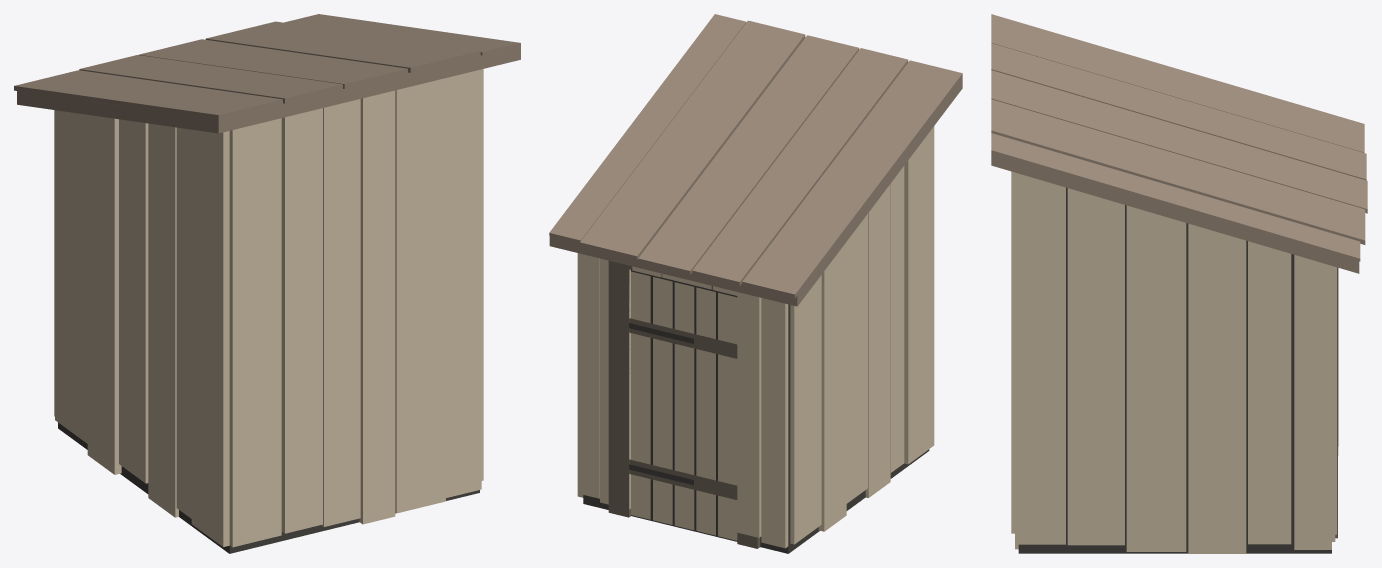
The model's file is recon_1835_blk_indiana_north_wolcott_a3_04__inferred_1835.glb.
3 renders of one model, left to right at view 1: azimuth 30°, elevation 25°; view 2: azimuth 150°, elevation 25°; view 3: azimuth 270°, elevation 25°, orthographic. The views are drawn at different scales.
Parts seen in each view (by area): view 1: recon_1835_blk_indiana_north_wolcott_a3_04__inferred_1835; view 2: recon_1835_blk_indiana_north_wolcott_a3_04__inferred_1835; view 3: recon_1835_blk_indiana_north_wolcott_a3_04__inferred_1835.
Boxes of the visible parts, box(x1,y1,x2,y2) form: recon_1835_blk_indiana_north_wolcott_a3_04__inferred_1835: box(14, 14, 520, 553); recon_1835_blk_indiana_north_wolcott_a3_04__inferred_1835: box(549, 14, 962, 553); recon_1835_blk_indiana_north_wolcott_a3_04__inferred_1835: box(991, 14, 1367, 553).
Size of the model in its own units: 1.96 by 2.84 by 2.32.
